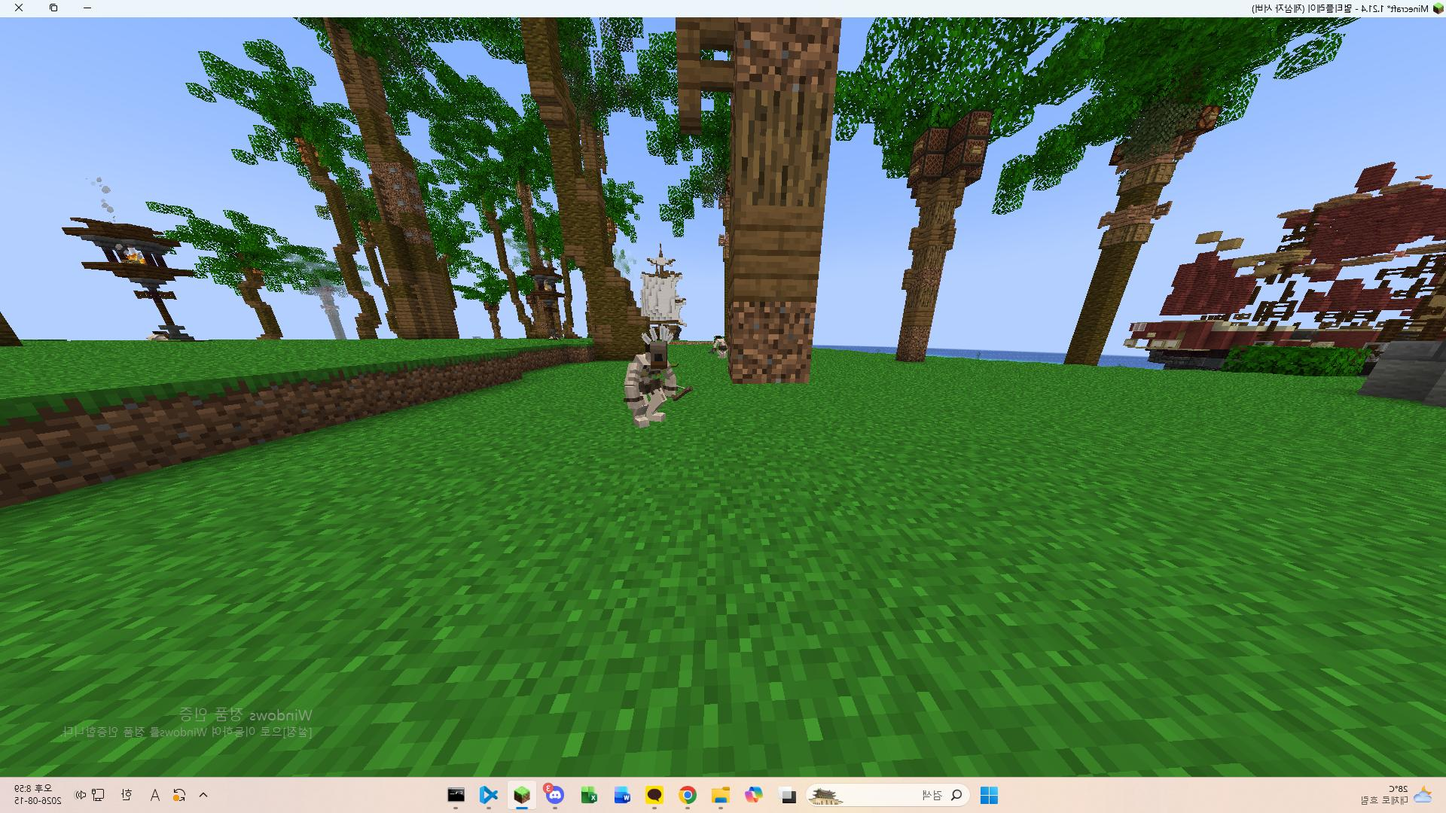bow_indian: (602, 314, 704, 448)
